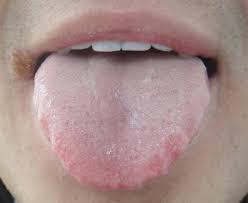baitaishe: (33, 55, 210, 192)
chihenshe: (147, 136, 189, 178)
